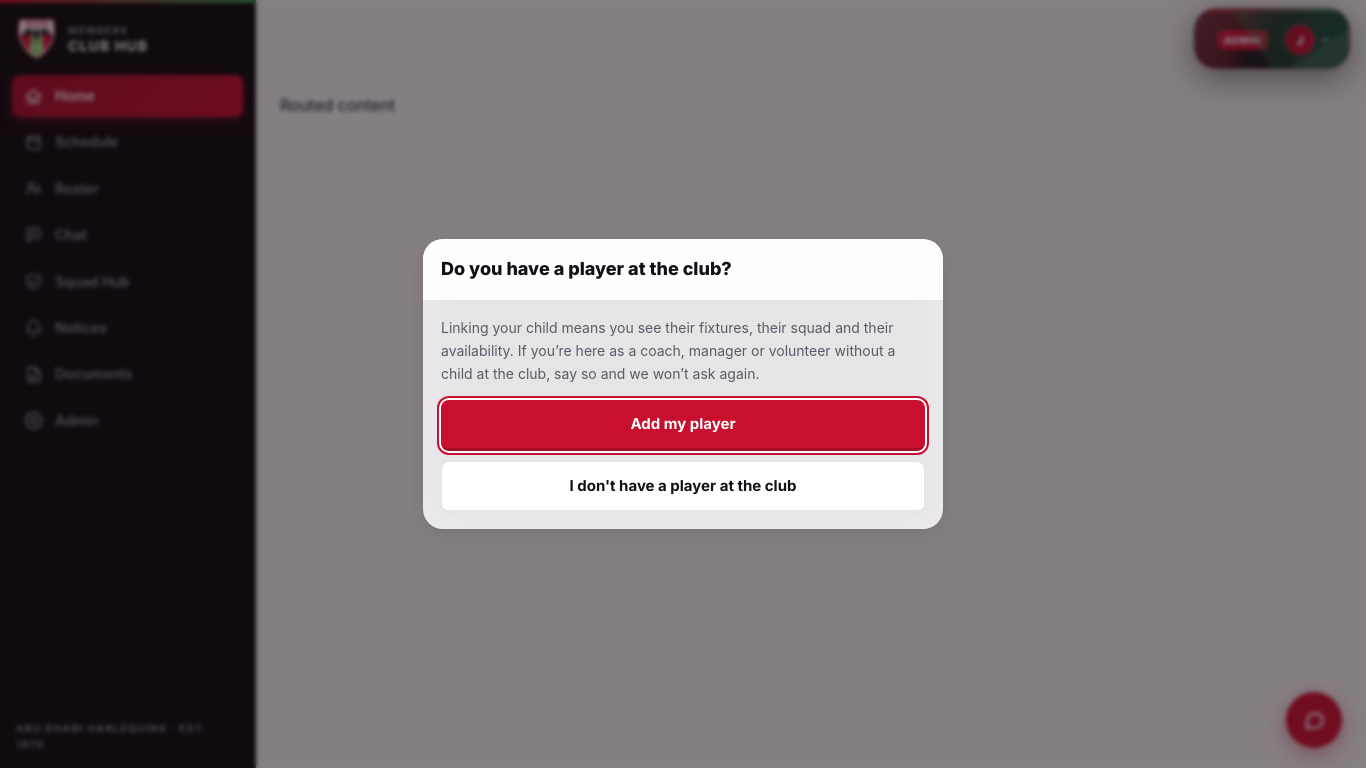
Test case: NamePrompt — the player gate › records the answer and closes
This screenshot has width=1366, height=768.
What coordinates should you click on to do the following:
click the button with test id "no-player"
I would click on:
 (683, 486)
Its box is [441, 460, 925, 512].
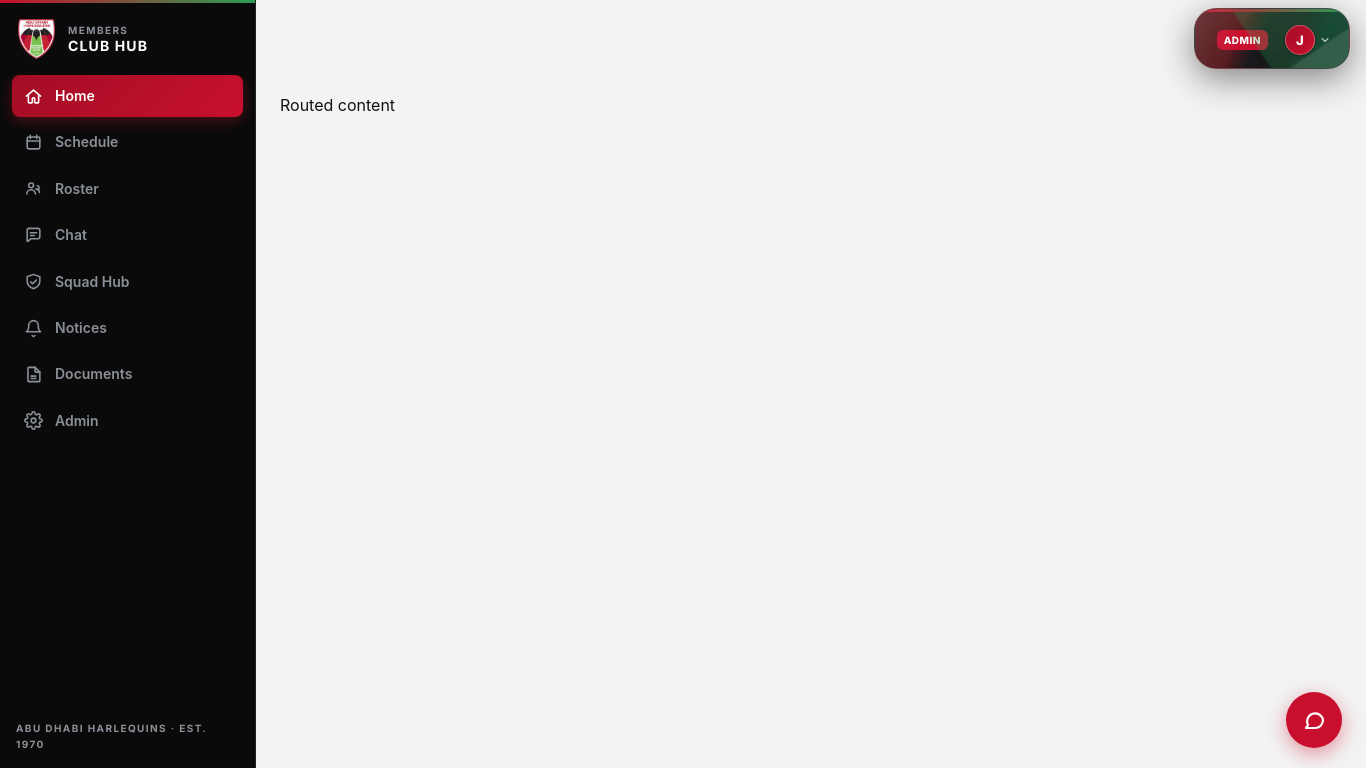
Expected: the heading "Do you have a player" is gone
